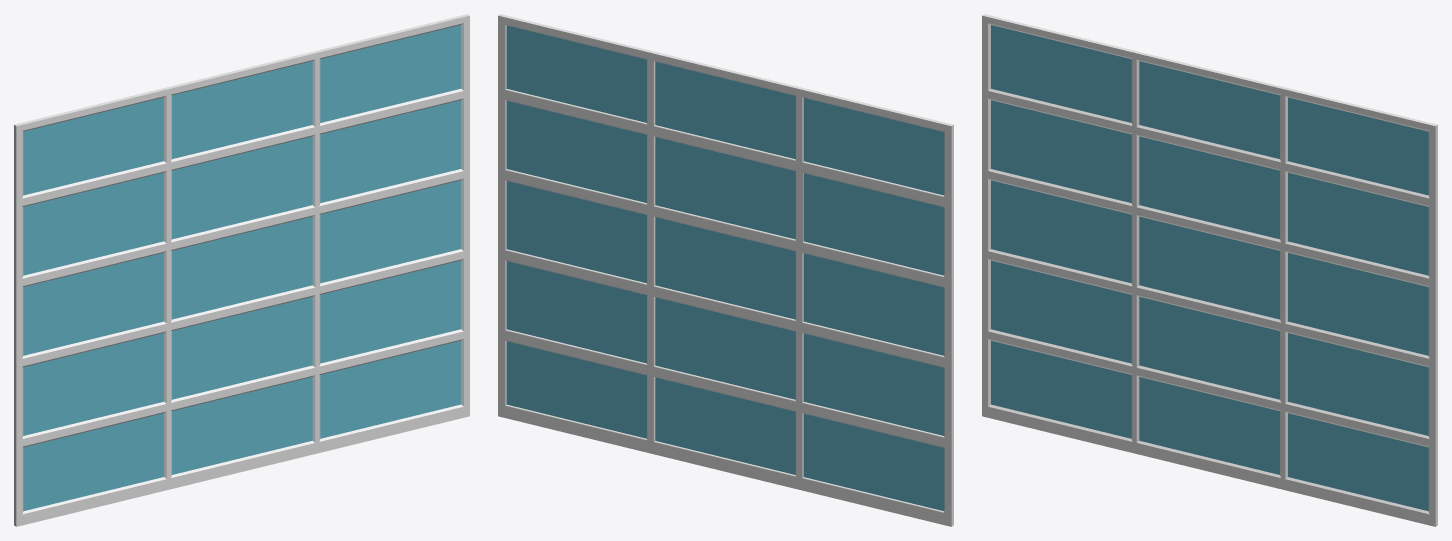
The model's file is garage_clear v2.fbx.
3 views of the same model, side by side, from view 1: azimuth 30°, elevation 25°; view 2: azimuth 150°, elevation 25°; view 3: azimuth 330°, elevation 25° (orthographic).
Visible parts, largest first — view 1: Body2, Body3, Body4, Body1; view 2: Body2, Body3, Body4, Body1; view 3: Body4, Body2, Body3, Body1.
Boxes of the visible parts, x1,y1,x2,y2 form: Body2: (23, 97, 163, 511); Body3: (172, 61, 312, 474); Body4: (320, 25, 460, 438); Body1: (14, 14, 469, 526); Body2: (803, 98, 944, 511); Body3: (655, 61, 795, 474); Body4: (506, 25, 646, 438); Body1: (498, 14, 953, 526); Body4: (1288, 97, 1428, 511); Body2: (991, 25, 1131, 438); Body3: (1139, 61, 1279, 474); Body1: (982, 14, 1437, 526).
Bounding box in the file's own units: 3.68 × 3.11 × 0.0317.
